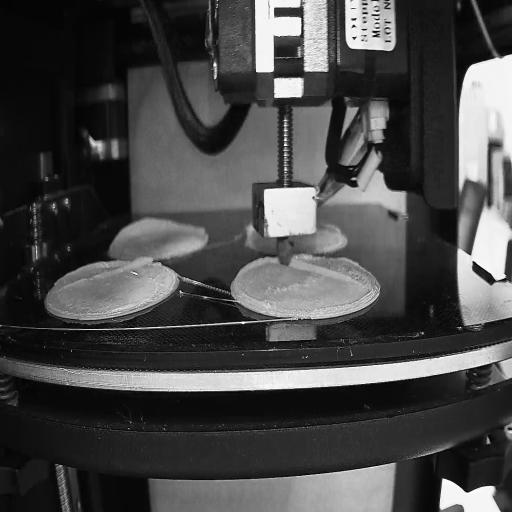over_extrusion: (64, 254, 154, 289), (109, 217, 206, 247), (292, 256, 353, 282)
